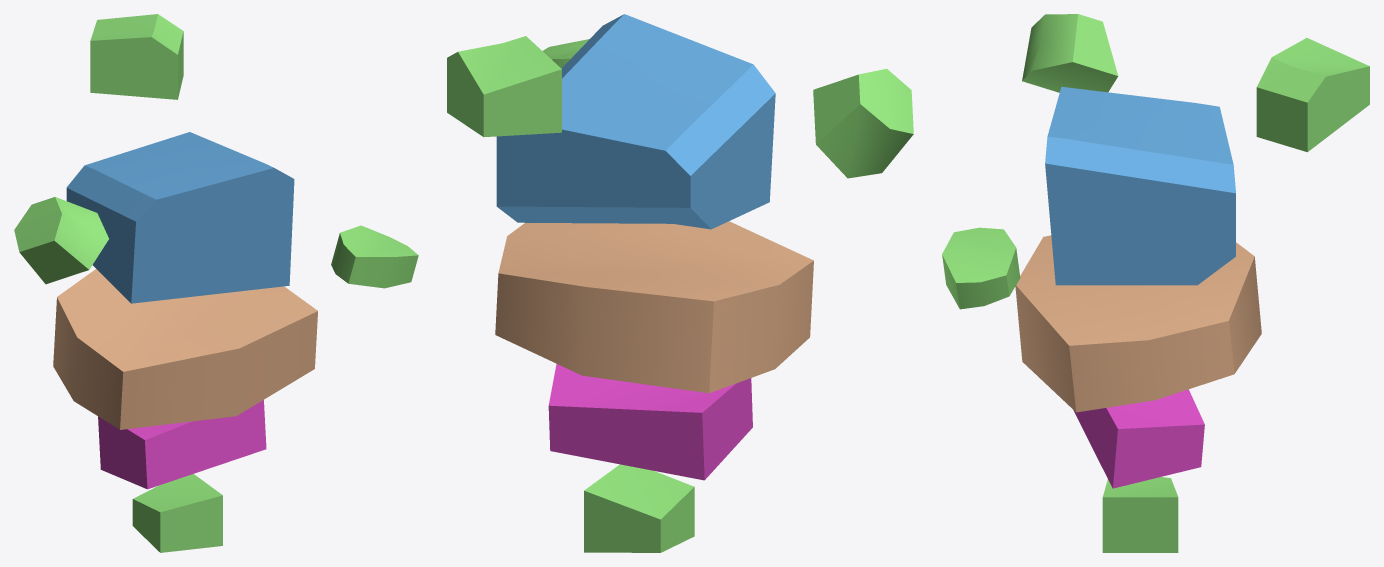
Rendered from enemy1.fbx.
The picture shows the model from 3 angles, left to right: view 1: azimuth 30°, elevation 25°; view 2: azimuth 150°, elevation 25°; view 3: azimuth 270°, elevation 25°; orthographic projection. The views are drawn at different scales.
Parts seen in each view (by area): view 1: Cube.003, Cube.005, Cube.002, Cube.007, Cube.006, Cube.001, Cube.008; view 2: Cube.003, Cube.005, Cube.002, Cube.007, Cube.006, Cube.001, Cube.008; view 3: Cube.005, Cube.003, Cube.007, Cube.002, Cube.006, Cube.001, Cube.008.
Boxes of the visible parts, x1,y1,x2,y2 form: Cube.003: [53, 269, 317, 429]; Cube.005: [66, 132, 294, 303]; Cube.002: [98, 400, 266, 489]; Cube.007: [90, 14, 183, 99]; Cube.006: [14, 197, 108, 284]; Cube.001: [132, 474, 222, 552]; Cube.008: [331, 225, 418, 288]; Cube.003: [495, 221, 813, 393]; Cube.005: [496, 14, 775, 229]; Cube.002: [548, 364, 752, 480]; Cube.007: [447, 36, 561, 137]; Cube.006: [813, 68, 913, 178]; Cube.001: [584, 464, 694, 552]; Cube.008: [543, 39, 589, 68]; Cube.005: [1045, 86, 1235, 285]; Cube.003: [1015, 235, 1261, 412]; Cube.007: [1256, 38, 1369, 152]; Cube.002: [1073, 389, 1204, 488]; Cube.006: [1022, 14, 1118, 92]; Cube.001: [1102, 477, 1178, 552]; Cube.008: [942, 227, 1020, 309].
Bounding box in the file's own units: 159 × 196 × 153.
